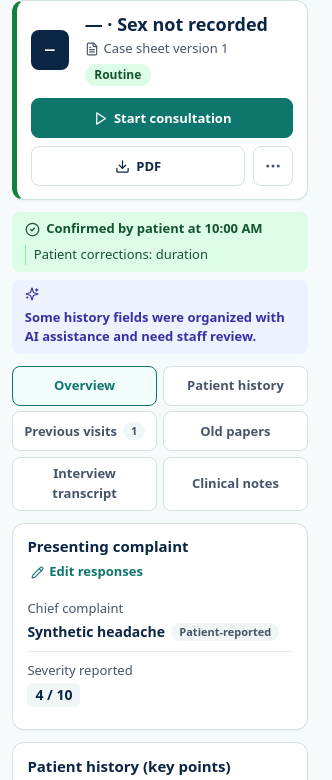
Scenario: Phase 7.4 doctor consultation › keeps earlier visits in their own section, labelled by source
Click the tab "Previous visits 1" at (85, 431), box [12,411,157,451]
(page scrolled)
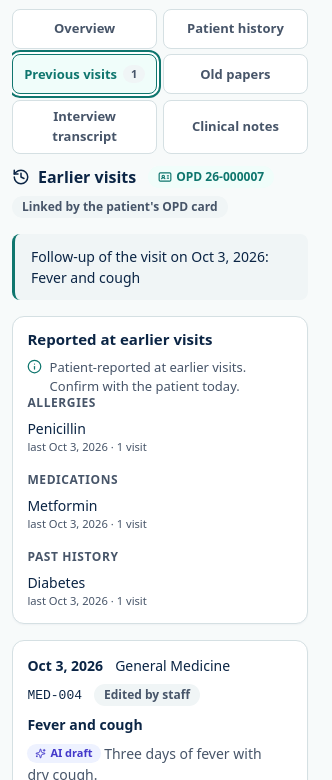
Expected: the text "Linked by the patient's OPD card" is shown, [12,196,228,218]
Expected: the text "Follow-up of the visit on Oct 3, 2026: Fever and cough" is shown, [12,234,308,300]
Expected: the text "Penicillin" is shown, [27,420,86,438]
